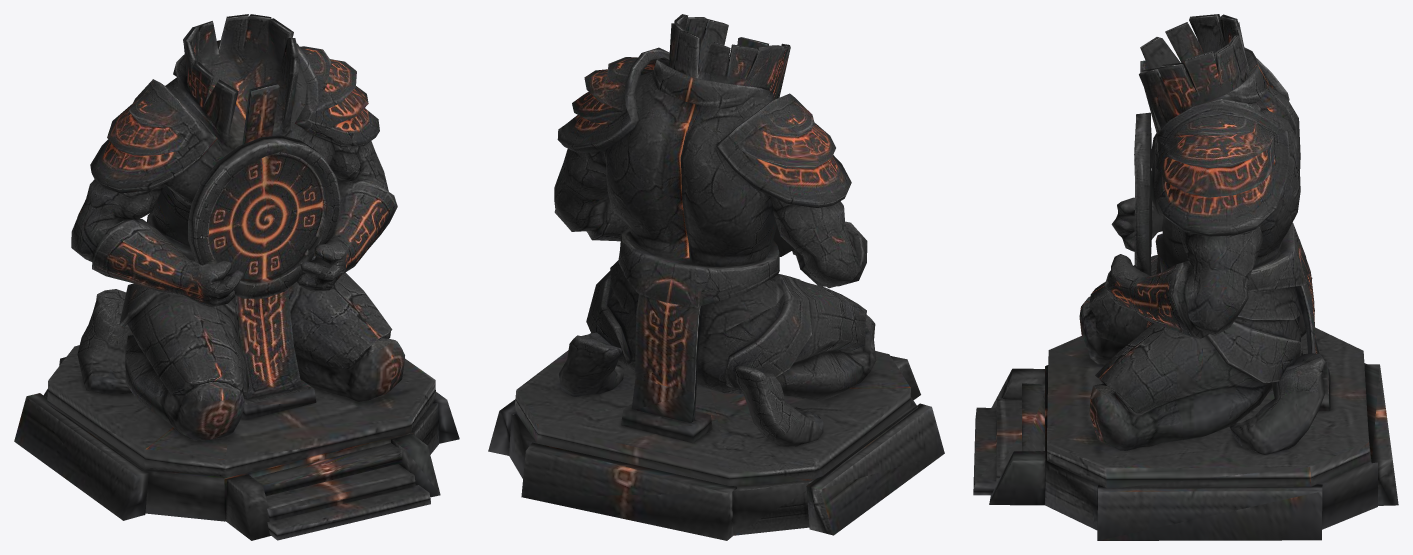
The model's file is altar_power.glb.
3 renders of one model, left to right at view 1: azimuth 30°, elevation 25°; view 2: azimuth 150°, elevation 25°; view 3: azimuth 270°, elevation 25°, orthographic. The views are drawn at different scales.
Visible parts, largest first — view 1: altar_power; view 2: altar_power; view 3: altar_power.
Boxes of the visible parts, x1=… form: altar_power: x1=14, y1=14, x2=459, y2=540; altar_power: x1=488, y1=14, x2=944, y2=540; altar_power: x1=973, y1=14, x2=1398, y2=540.
Bounding box in the file's own units: 0.855 × 1 × 0.9105.
Materials: 1 (1 with a texture image).
